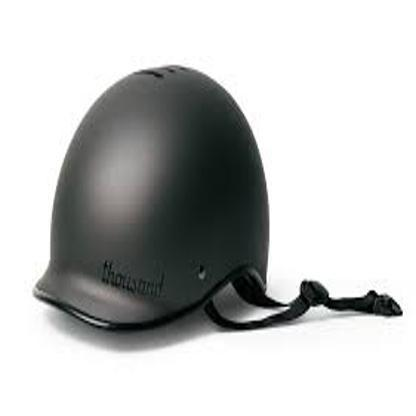not trash: (32, 63, 401, 327)
